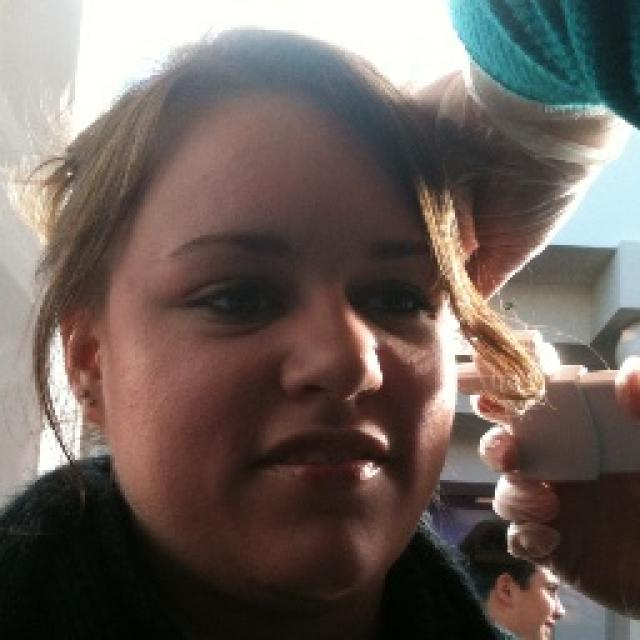earlobe: (54, 282, 110, 428)
